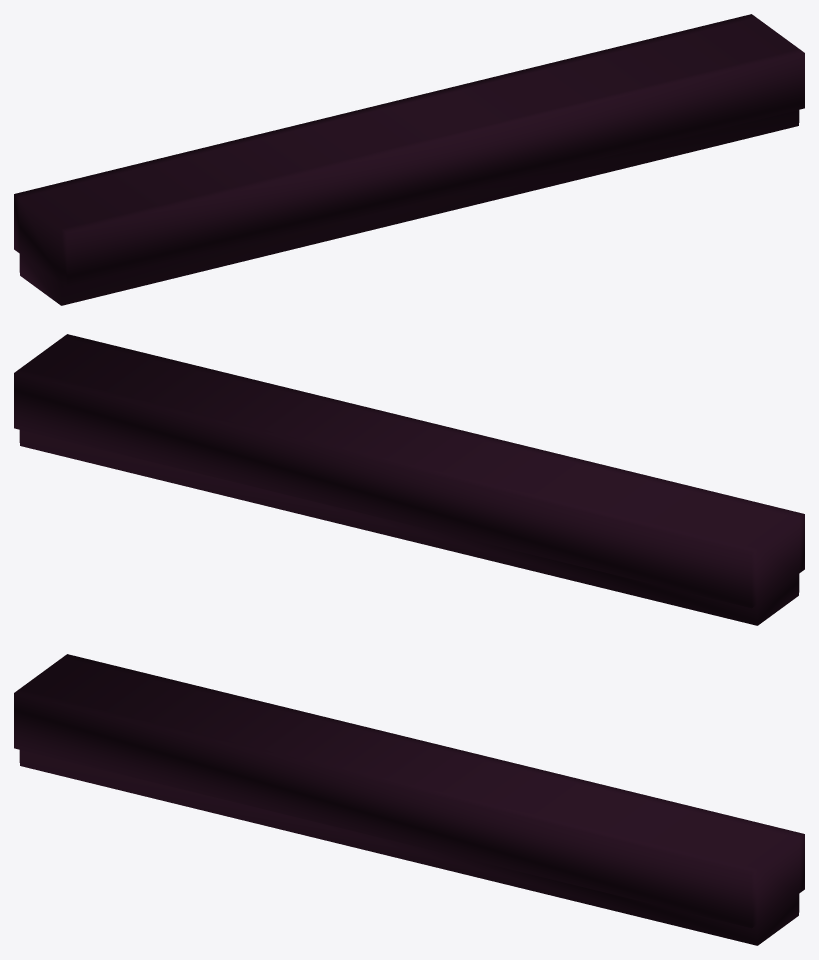
Rendered from Baseboard_02.fbx.
3 views of the same model, one above another, from view 1: azimuth 30°, elevation 25°; view 2: azimuth 150°, elevation 25°; view 3: azimuth 330°, elevation 25° (orthographic).
Parts seen in each view (by area): view 1: Pillar_01_C.002; view 2: Pillar_01_C.002; view 3: Pillar_01_C.002.
Boxes of the visible parts, <box> form: Pillar_01_C.002: <box>14,14,804,305</box>; Pillar_01_C.002: <box>14,334,804,625</box>; Pillar_01_C.002: <box>14,654,804,945</box>.
Size of the model in its own units: 4 by 0.5 by 0.4.
